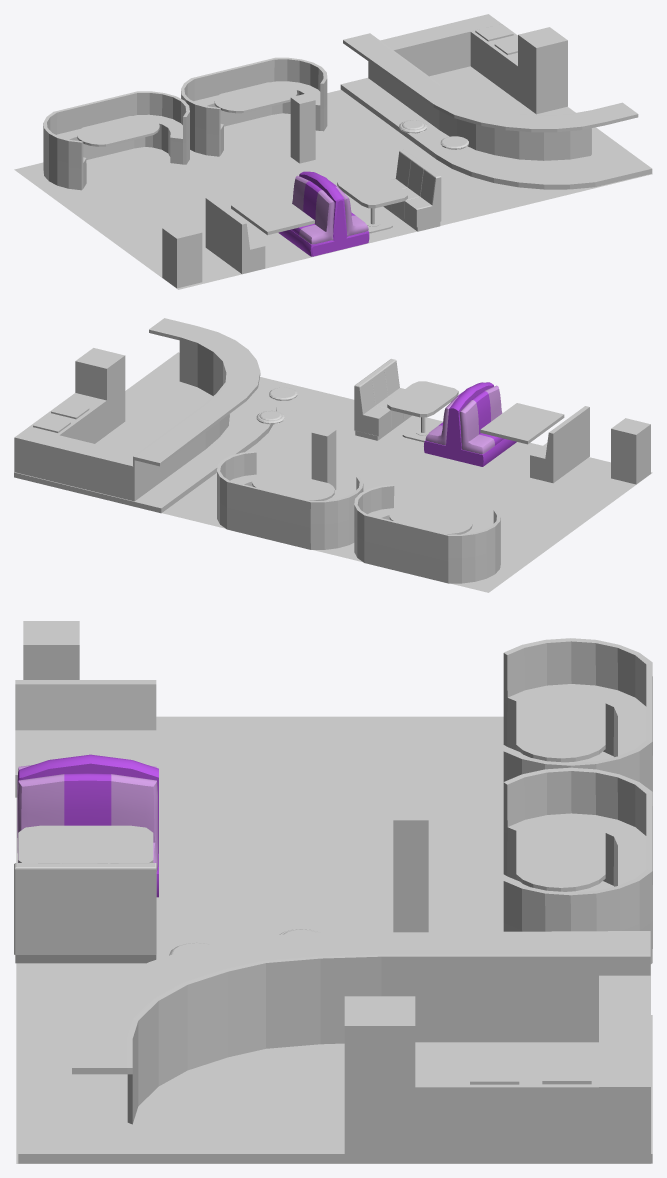
File: blockout_1202.fbx
3 renders of one model, top to bottom at view 1: azimuth 30°, elevation 25°; view 2: azimuth 150°, elevation 25°; view 3: azimuth 270°, elevation 25°, orthographic. The views are drawn at different scales.
Visible parts, largest first — view 1: Floor, Cylinder.003, Cylinder.004, Cylinder.006, Cylinder.009, Cube.011, Cube.004, Cube.002, Cube, Cube.008, Box, Tafelpoot.1 (+5 smaller); view 2: Floor, Cylinder.004, Cylinder.003, Cylinder.006, Cylinder.009, Cube.002, Cube.011, Cube, Cube.004, Cube.008, Box, Tafelpoot.1 (+6 smaller); view 3: Floor, Cylinder.003, Cylinder.004, Cylinder.009, Cube.003, Cube, Cylinder.006, Cube.004, Cube.011, Cube.002, Cube.008, Cylinder.008 (+7 smaller).
Boxes of the visible parts, box(x1,y1,x2,y2) form: Floor: box(14, 90, 652, 289); Cylinder.003: box(343, 33, 638, 160); Cylinder.004: box(340, 66, 652, 189); Cylinder.006: box(43, 91, 189, 190); Cylinder.009: box(181, 57, 327, 156); Cube.011: box(278, 171, 369, 256); Cube.004: box(518, 27, 567, 114); Cube.002: box(380, 14, 501, 76); Cube: box(383, 149, 441, 231); Cube.008: box(205, 197, 265, 274); Box: box(162, 222, 202, 288); Tafelpoot.1: box(337, 172, 407, 233); Floor: box(162, 377, 652, 592); Cylinder.004: box(14, 352, 276, 513); Cylinder.003: box(133, 318, 260, 500); Cylinder.006: box(354, 484, 500, 583); Cylinder.009: box(217, 451, 363, 549); Cube.002: box(14, 427, 135, 501); Cube.011: box(424, 382, 516, 466); Cube: box(354, 359, 411, 440); Cube.004: box(75, 348, 125, 434); Cube.008: box(530, 406, 589, 483); Box: box(611, 418, 650, 484); Tafelpoot.1: box(387, 381, 458, 442); Floor: box(16, 716, 650, 1163); Cylinder.003: box(72, 931, 650, 1124); Cylinder.004: box(18, 1015, 652, 1163); Cylinder.009: box(503, 767, 652, 963); Cube.003: box(415, 1057, 598, 1154); Cube: box(14, 863, 156, 963); Cylinder.006: box(503, 638, 652, 805); Cube.004: box(344, 996, 415, 1153); Cube.011: box(17, 754, 158, 897); Cube.002: box(599, 974, 650, 1161); Cube.008: box(15, 680, 156, 797); Cylinder.008: box(516, 815, 605, 891).
Bounding box in the file's own units: 15 × 2.16 × 9.06.
